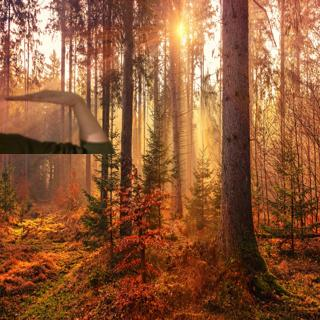WAIT: (2, 80, 83, 109)
